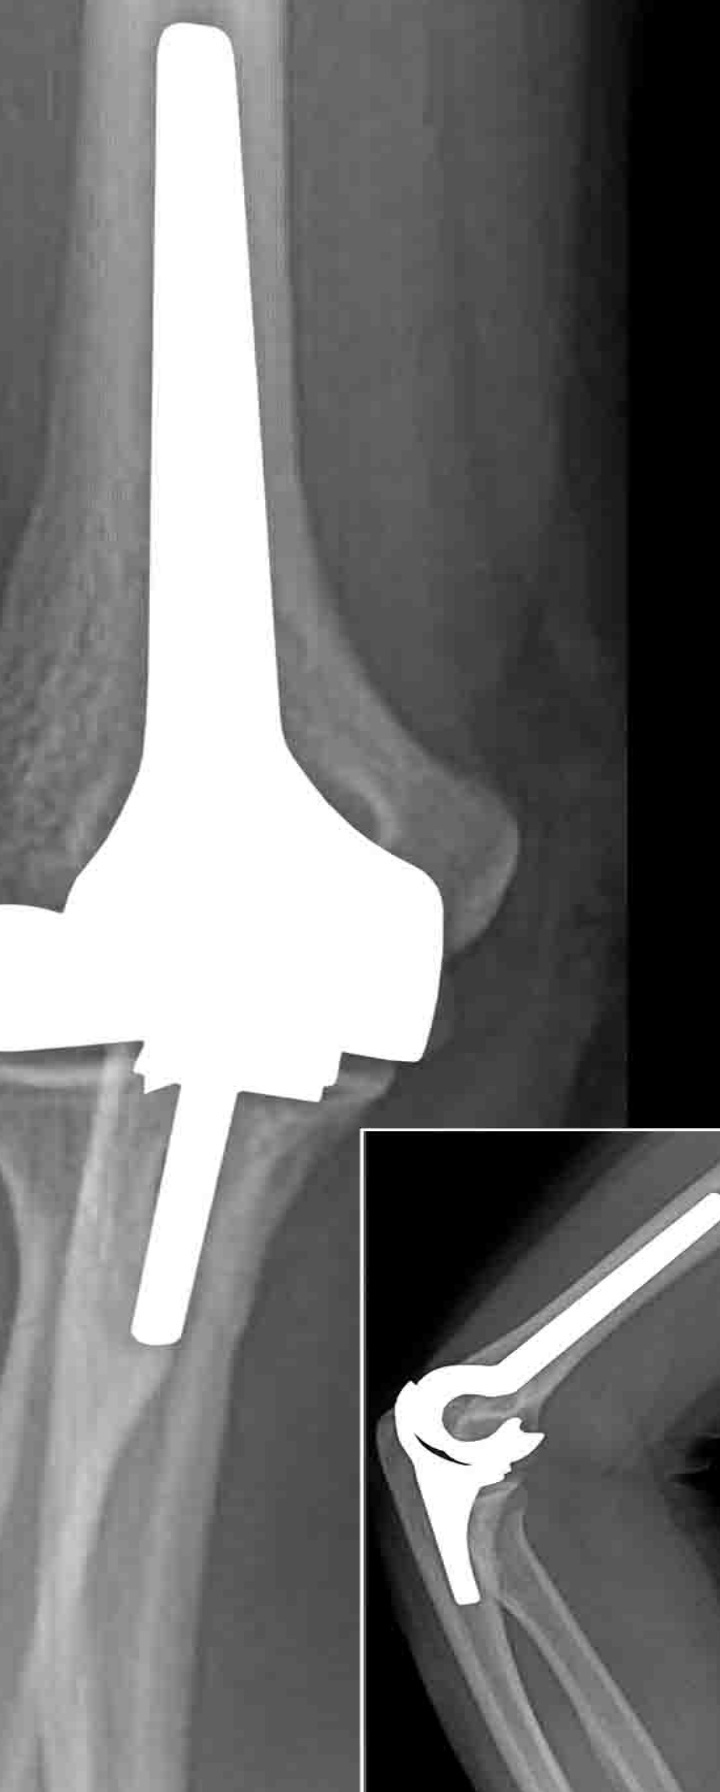Elbow - IBP - Biomet: (2, 16, 463, 1354), (374, 1163, 720, 1623)
